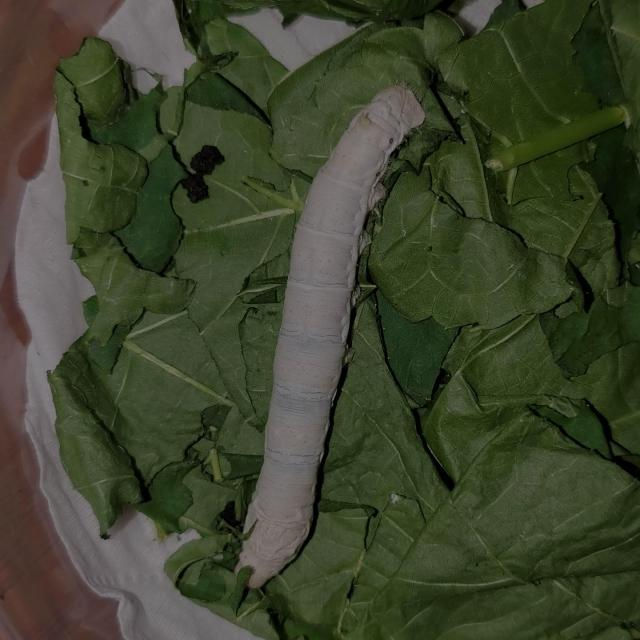Healthy: (204, 58, 454, 606)
